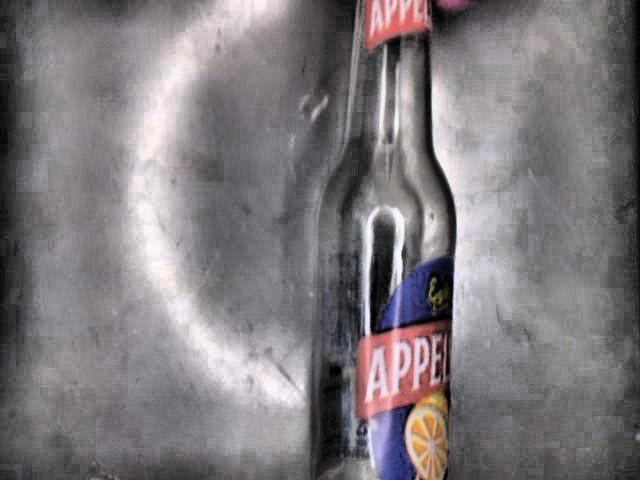Bottles: (305, 0, 457, 480)
